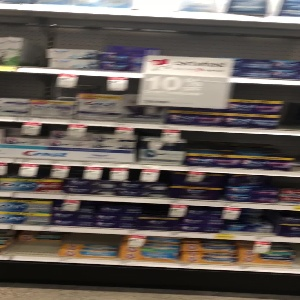void: (1, 231, 59, 260), (280, 85, 300, 131)
